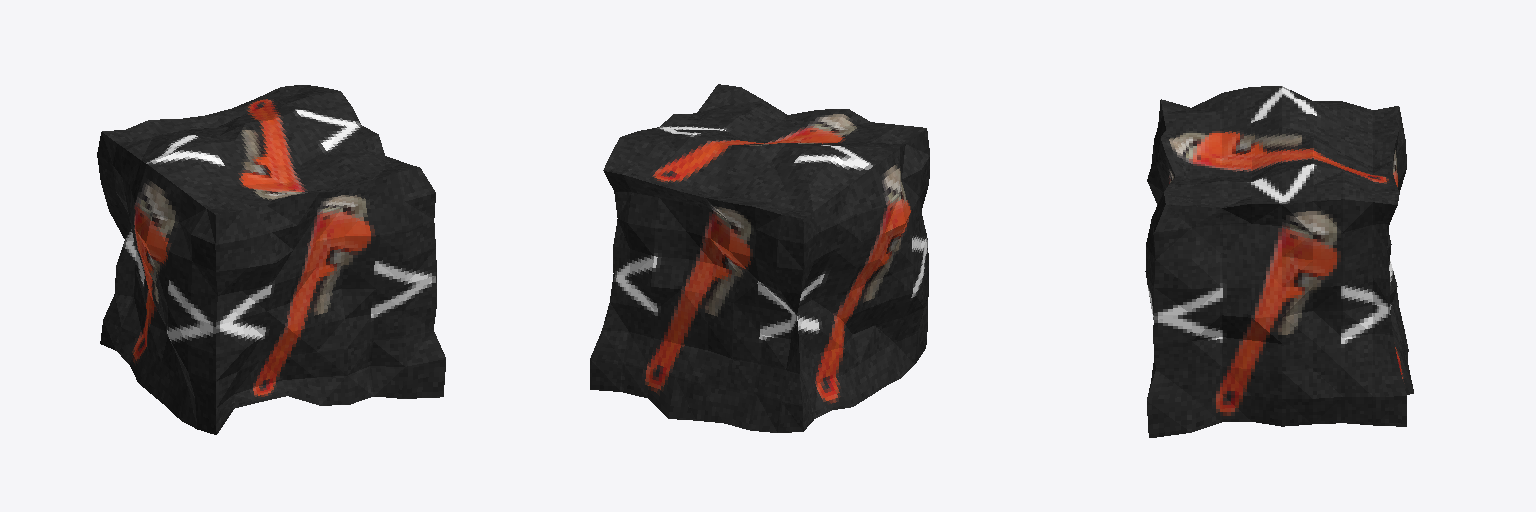
The picture shows the model from 3 angles: view 1: azimuth 30°, elevation 25°; view 2: azimuth 150°, elevation 25°; view 3: azimuth 270°, elevation 25°; orthographic projection.
Parts seen in each view (by area): view 1: Cube; view 2: Cube; view 3: Cube.
Boxes of the visible parts, <box> form: Cube: <box>97,85,445,434</box>; Cube: <box>590,84,929,432</box>; Cube: <box>1145,86,1413,437</box>.
Bounding box in the file's own units: 2.36 × 2.24 × 2.22.
1 materials, 1 textured.